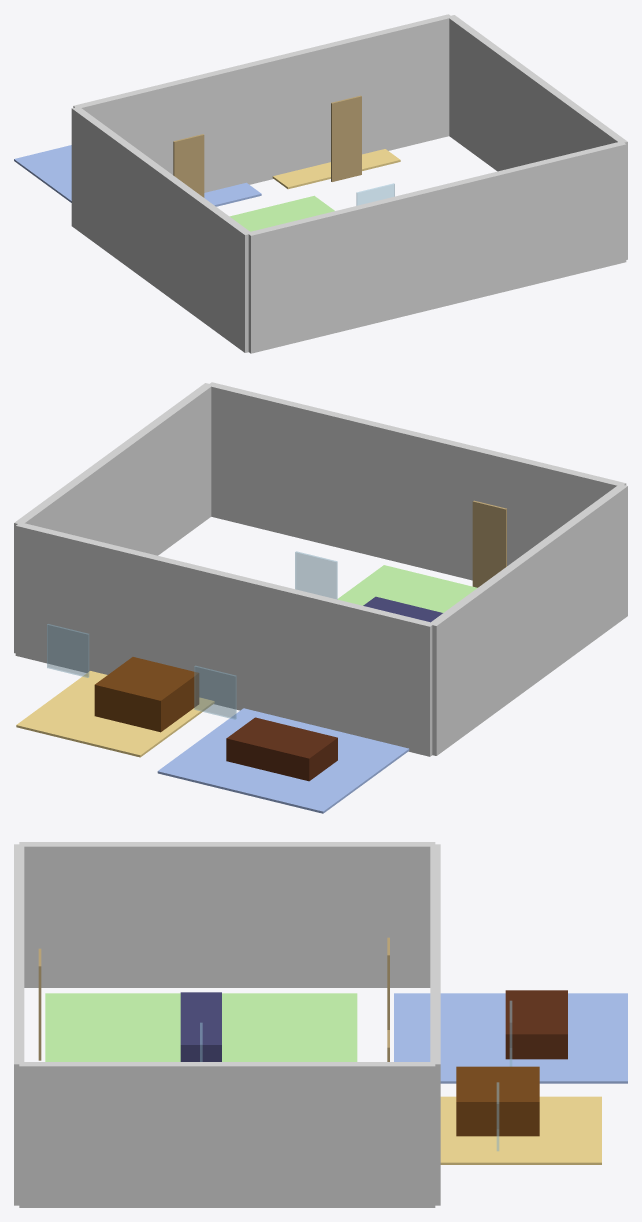
Rendered from architectural_floorplan_3064.obj.
3 renders of one model, top to bottom at view 1: azimuth 30°, elevation 25°; view 2: azimuth 150°, elevation 25°; view 3: azimuth 270°, elevation 25°, orthographic. The views are drawn at different scales.
Visible parts, largest first — view 1: exterior_bottom, exterior_top, exterior_left, exterior_right, Bedroom_floor, Kitchen_door, Living_Room_floor, Bedroom_door, Kitchen_floor, Living_Room_window; view 2: exterior_top, exterior_bottom, exterior_left, exterior_right, Bedroom_floor, Kitchen_table, Kitchen_floor, Bedroom_bed, Living_Room_floor, Living_Room_door, Bedroom_window, Kitchen_window (+2 smaller); view 3: exterior_right, exterior_left, Living_Room_floor, Bedroom_floor, Kitchen_floor, Kitchen_table, Bedroom_bed, exterior_top, exterior_bottom, Living_Room_sofa.
Boxes of the visible parts, left/top/right/bottom form: exterior_bottom: left=247, top=141, right=626, bottom=353; exterior_top: left=73, top=14, right=452, bottom=192; exterior_left: left=71, top=106, right=251, bottom=352; exterior_right: left=448, top=15, right=627, bottom=259; Bedroom_floor: left=14, top=145, right=261, bottom=206; Kitchen_door: left=331, top=95, right=361, bottom=181; Living_Room_floor: left=229, top=195, right=334, bottom=231; Bedroom_door: left=173, top=134, right=204, bottom=197; Kitchen_floor: left=272, top=149, right=400, bottom=189; Living_Room_window: left=356, top=183, right=394, bottom=205; exterior_top: left=15, top=522, right=434, bottom=756; exterior_bottom: left=207, top=382, right=626, bottom=580; exterior_left: left=431, top=485, right=627, bottom=755; exterior_right: left=14, top=383, right=212, bottom=653; Bedroom_floor: left=157, top=708, right=409, bottom=813; Kitchen_table: left=94, top=657, right=199, bottom=732; Kitchen_floor: left=16, top=671, right=214, bottom=757; Bedroom_bed: left=226, top=717, right=337, bottom=781; Living_Room_floor: left=337, top=565, right=477, bottom=612; Living_Room_door: left=472, top=500, right=506, bottom=587; Bedroom_window: left=194, top=665, right=236, bottom=719; Kitchen_window: left=47, top=624, right=89, bottom=677; exterior_right: left=19, top=1062, right=435, bottom=1207; exterior_left: left=19, top=842, right=435, bottom=987; Living_Room_floor: left=45, top=993, right=357, bottom=1061; Bedroom_floor: left=394, top=993, right=627, bottom=1083; Kitchen_floor: left=440, top=1096, right=601, bottom=1164; Kitchen_table: left=456, top=1066, right=539, bottom=1136; Bedroom_bed: left=505, top=990, right=567, bottom=1059; exterior_top: left=430, top=844, right=440, bottom=1205; exterior_bottom: left=14, top=844, right=24, bottom=1205; Living_Room_sofa: left=180, top=992, right=221, bottom=1061.
Size of the model in its own units: 10.2 by 3 by 11.8.
